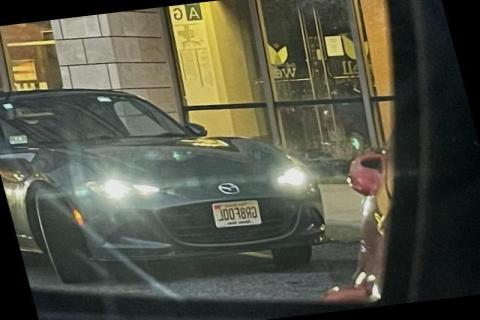LicensePlate: (209, 198, 261, 227)
